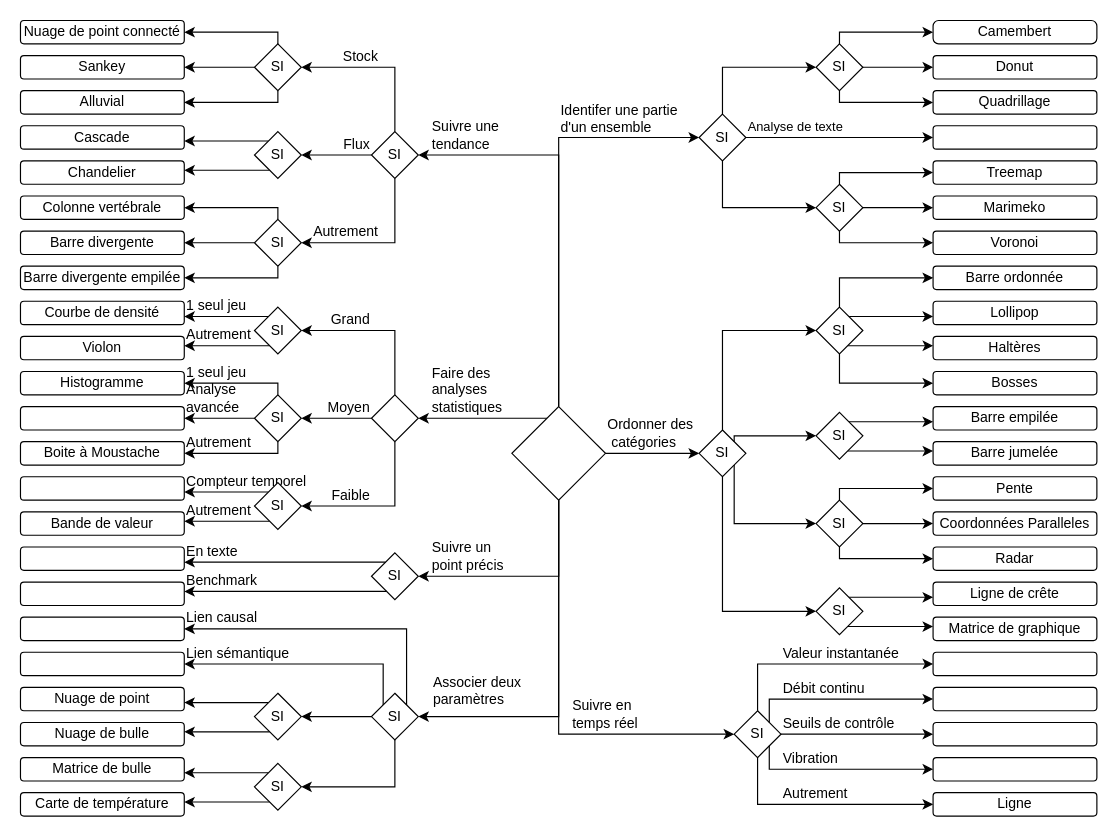
This 1117x837 diagram has some shape labels left out. Here are the shapes that lost their labels. From the top down, the centre of each, then its label:
(1014,137): Nuage de mots
(101,417): Valeur Lettrée
(394,418): Jeu de données
(558,452): Objectif ?
(101,488): Carte de fréquentation
(101,558): Marqueur
(101,593): Tiret
(101,628): Pareto
(101,663): Arbre de mots
(1014,663): Jauge
(1014,698): Ruisseau
(1014,733): Horizon
(1014,768): Sismographe
